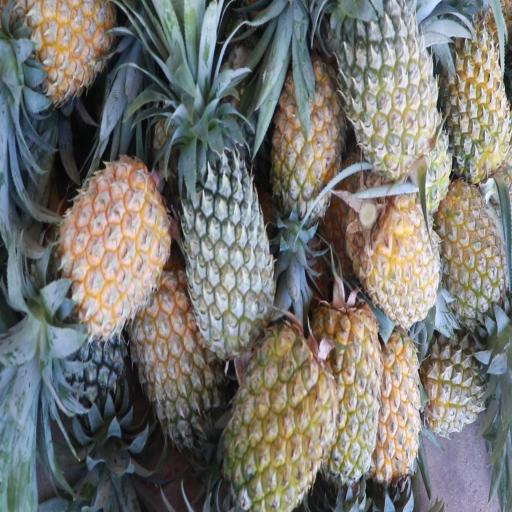------------------------------: (344, 0, 435, 170), (134, 283, 223, 442), (443, 26, 508, 182), (437, 182, 505, 314), (420, 330, 496, 438)
Pineapple - v8 v1: (225, 330, 332, 512), (58, 161, 160, 328), (260, 60, 336, 221), (311, 304, 379, 483), (363, 186, 441, 327), (12, 0, 112, 100), (373, 330, 420, 484)
